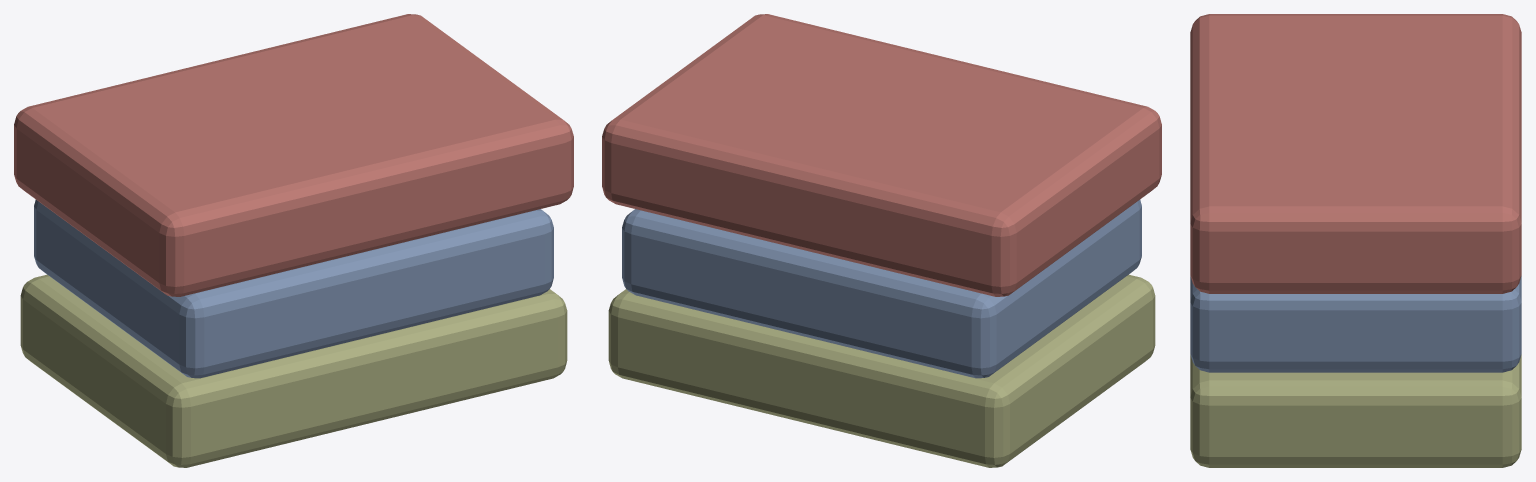
Rendered from sketch_books.glb.
The picture shows the model from 3 angles, left to right: view 1: azimuth 30°, elevation 25°; view 2: azimuth 150°, elevation 25°; view 3: azimuth 270°, elevation 25°; orthographic projection. The views are drawn at different scales.
Visible parts, largest first — view 1: Cube.002, Cube, Cube.001; view 2: Cube.002, Cube, Cube.001; view 3: Cube.002, Cube, Cube.001.
Boxes of the visible parts, <box> form: Cube.002: <box>14,14,573,296</box>; Cube: <box>20,274,567,467</box>; Cube.001: <box>34,199,553,378</box>; Cube.002: <box>602,14,1161,296</box>; Cube: <box>608,274,1155,467</box>; Cube.001: <box>622,199,1141,378</box>; Cube.002: <box>1190,14,1521,293</box>; Cube: <box>1190,354,1521,467</box>; Cube.001: <box>1190,276,1521,372</box>.
Size of the model in its own units: 0.31 by 0.184 by 0.21.
